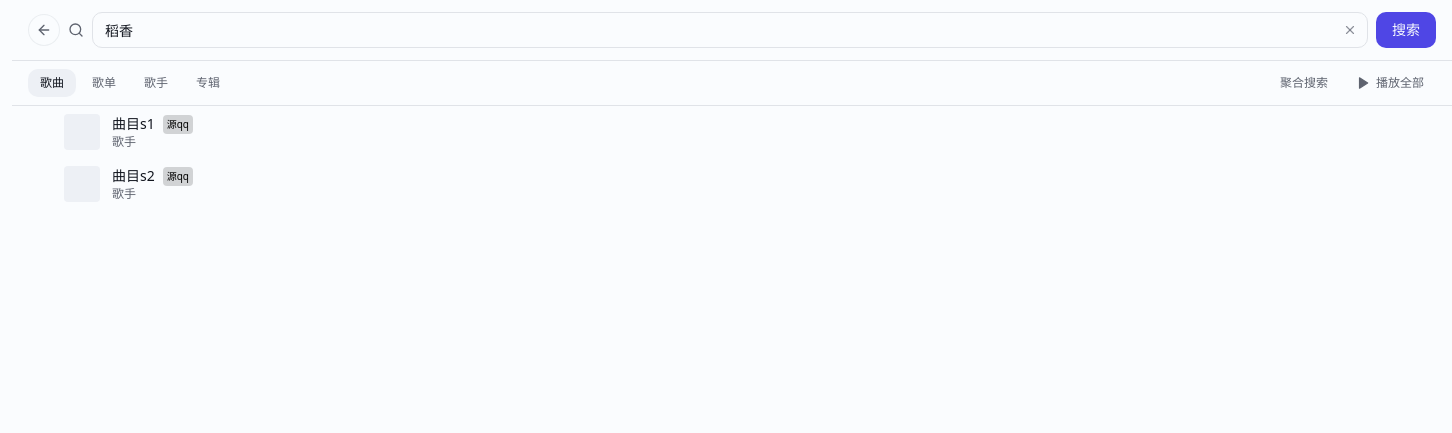
Test: 搜索页页签切换（URL 驱动的真实路由） › 点页签改 URL 后按新页签重新请求，并把列表换成新页签的结果
Click the button "歌单" at (104, 83), box [80, 69, 128, 97]
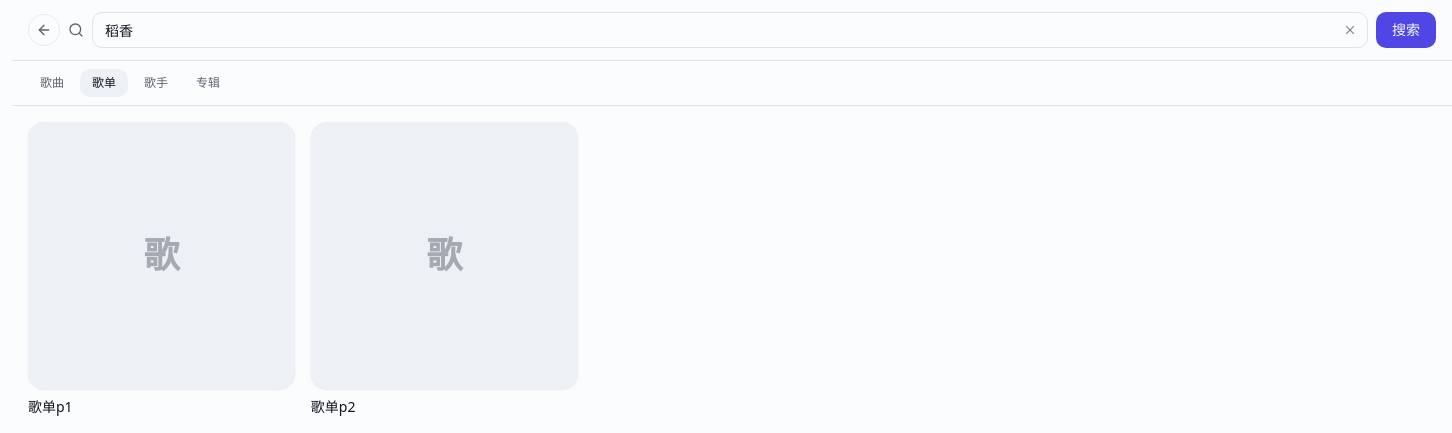
Now the text "歌单p1" is shown, box [28, 397, 73, 416]
Now the text "曲目s1" is gone
